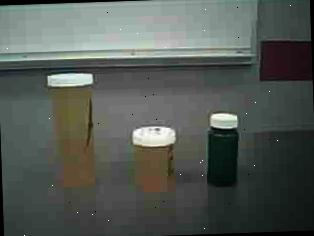Bottle A: (43, 67, 111, 193)
Bottle B: (128, 118, 184, 200)
Bottle C: (195, 106, 250, 196)
